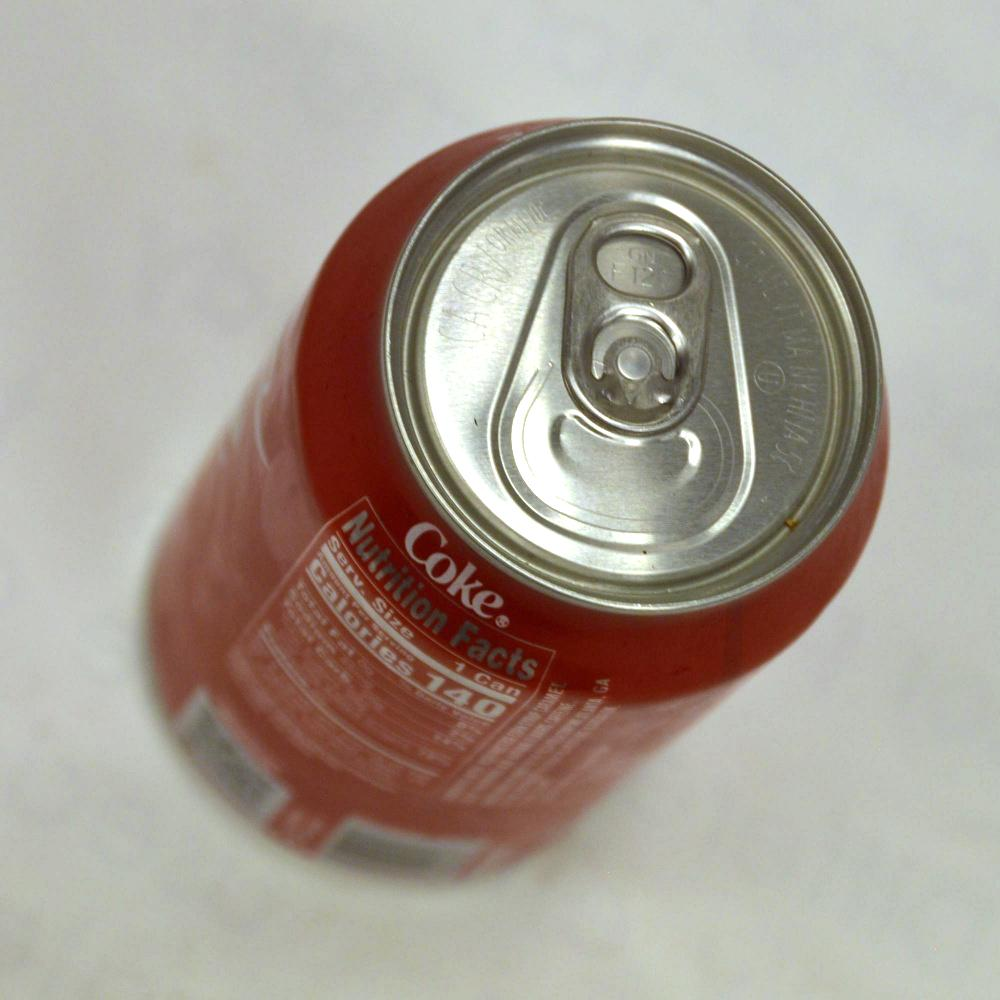Metal: (118, 75, 871, 893)
